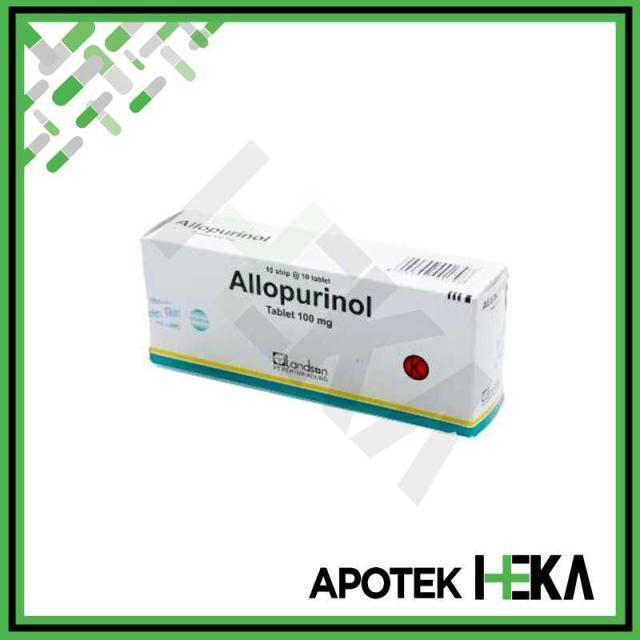drug-name: (227, 267, 374, 322)
